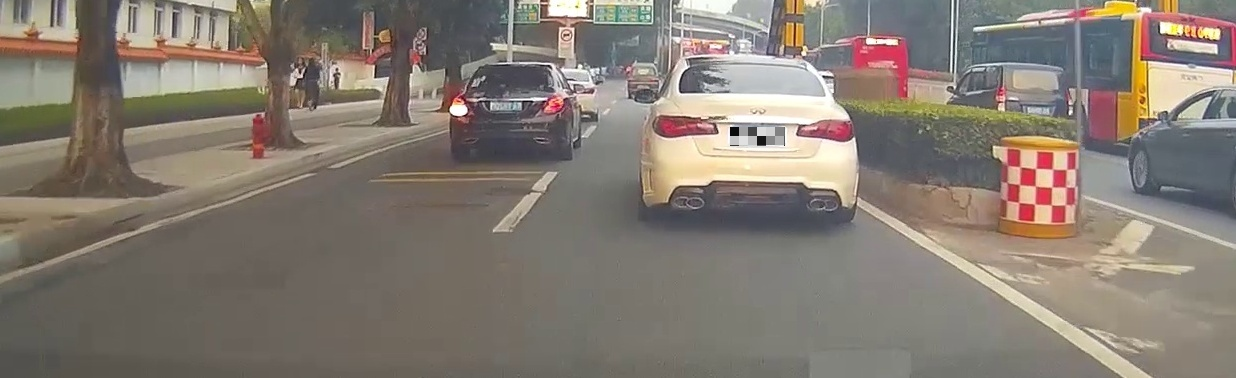L_light: (651, 115, 719, 138), (449, 97, 474, 118)
R_light: (796, 119, 855, 143), (542, 95, 565, 114)
T_light: (748, 64, 768, 68), (508, 65, 526, 69)
day-left: (448, 62, 572, 161)
day-no: (641, 54, 859, 223)
plate_1: (730, 127, 785, 146)
